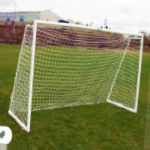goals: (6, 17, 145, 133)
